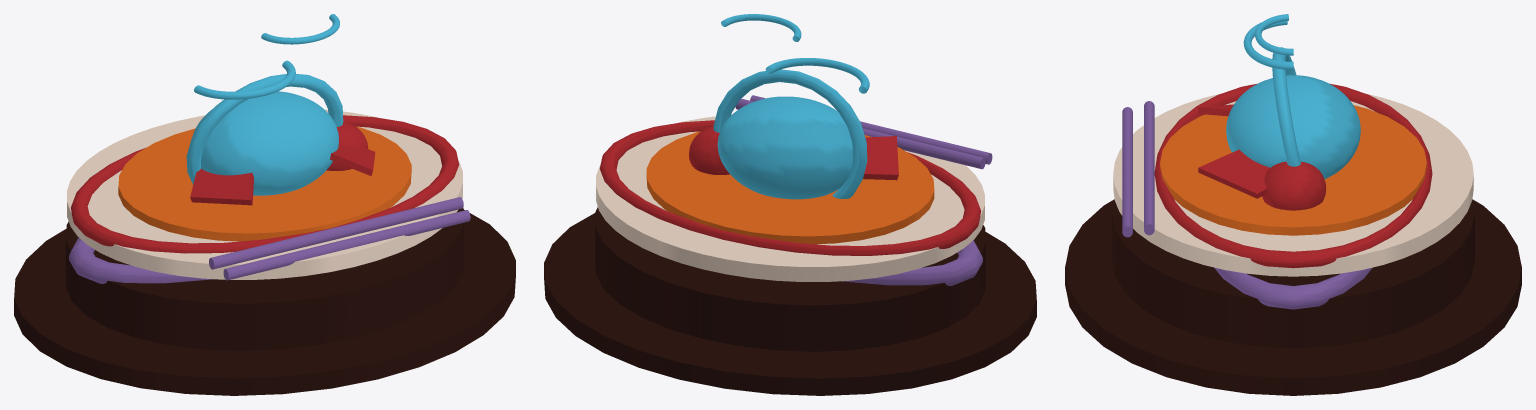
File: 0333_揭秘食物图鉴_辣椒X.glb
The picture shows the model from 3 angles, left to right: view 1: azimuth 30°, elevation 25°; view 2: azimuth 150°, elevation 25°; view 3: azimuth 270°, elevation 25°; orthographic projection. The views are drawn at different scales.
Visible parts, largest first — view 1: card_0333; view 2: card_0333; view 3: card_0333.
Boxes of the visible parts, x1=… form: card_0333: x1=14, y1=14, x2=515, y2=395; card_0333: x1=544, y1=14, x2=1036, y2=395; card_0333: x1=1065, y1=14, x2=1521, y2=395.
Size of the model in its own units: 1.77 by 1 by 1.54.
